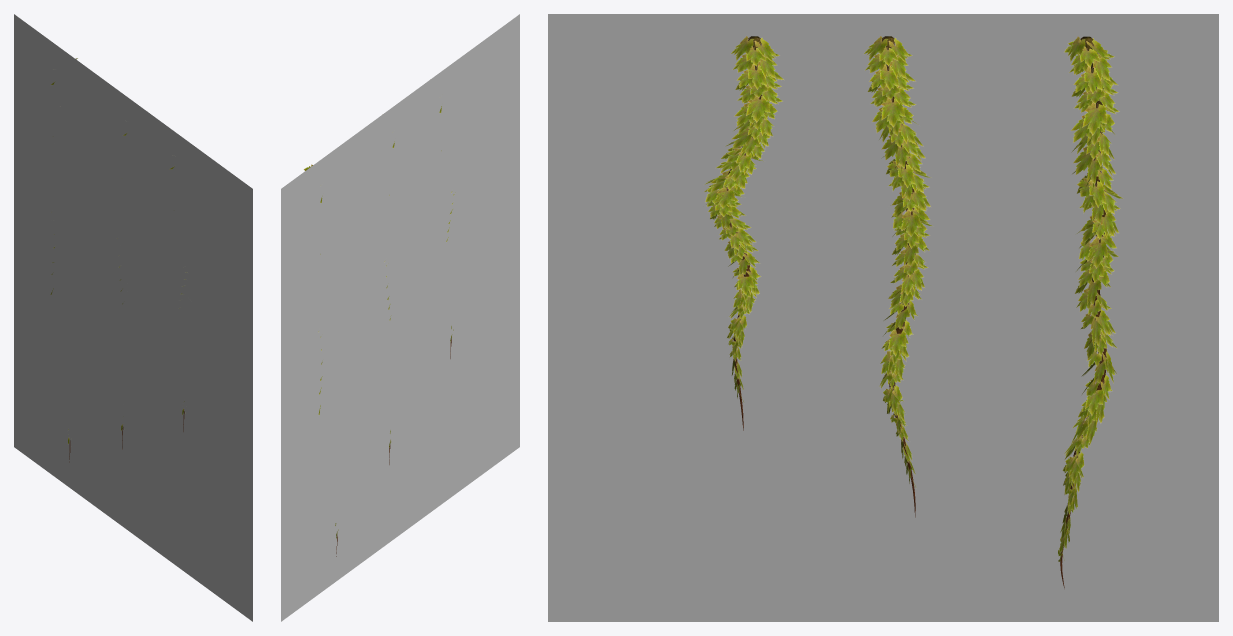
The model's file is low_poly_wall_vine.glb.
The picture shows the model from 3 angles, left to right: view 1: azimuth 30°, elevation 25°; view 2: azimuth 150°, elevation 25°; view 3: azimuth 270°, elevation 25°; orthographic projection. The views are drawn at different scales.
Visible parts, largest first — view 1: Back; view 2: Back; view 3: Back, Vine3, Vine1, Vine2.
Part boxes in pixels (left/top/right/bottom): Back: left=14, top=14, right=252, bottom=621; Back: left=281, top=14, right=519, bottom=621; Back: left=548, top=14, right=1218, bottom=621; Vine3: left=1058, top=36, right=1123, bottom=588; Vine1: left=863, top=36, right=933, bottom=517; Vine2: left=704, top=36, right=783, bottom=430.
Bounding box in the file's own units: 0.894 × 11.47 × 11.47.
Materials: 3 (2 with a texture image).
